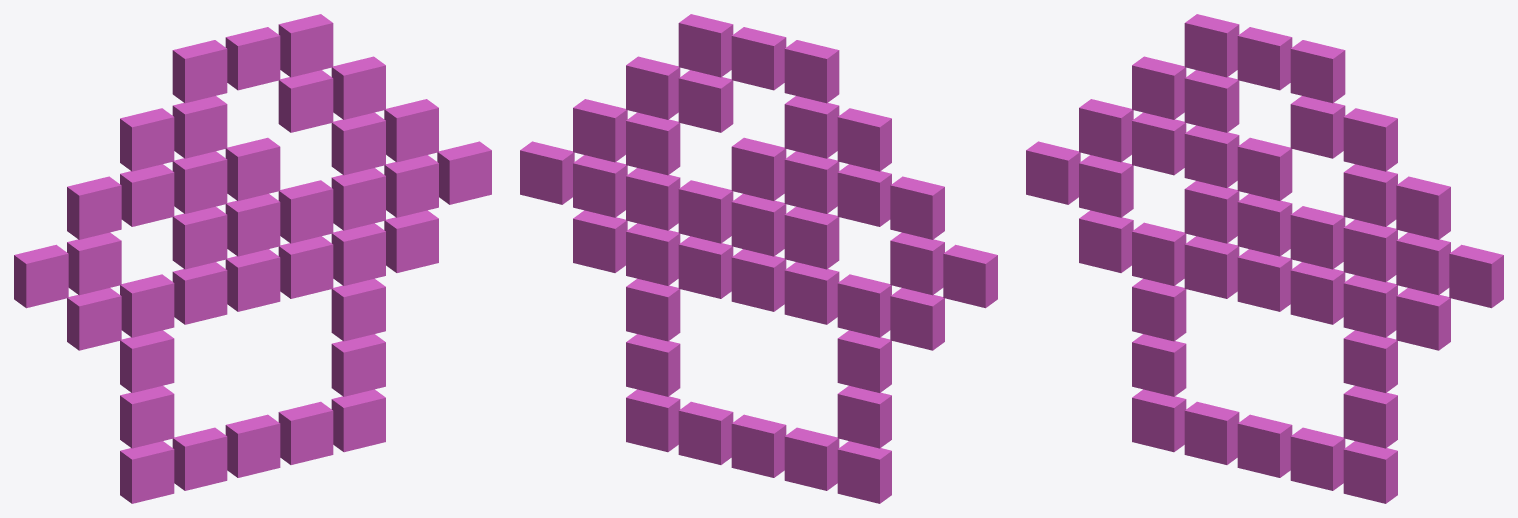
The model's file is PoisonA.fbx.
3 renders of one model, left to right at view 1: azimuth 30°, elevation 25°; view 2: azimuth 150°, elevation 25°; view 3: azimuth 330°, elevation 25°, orthographic.
Visible parts, largest first — view 1: Cube.037, Cube.060, Cube.030, Cube.035, Cube.034, Cube.036, Cube.038, Cube.039, Cube.021, Cube.022, Cube.024, Cube.032 (+25 smaller); view 2: Cube.037, Cube.060, Cube.030, Cube.035, Cube.034, Cube.036, Cube.038, Cube.039, Cube.021, Cube.022, Cube.024, Cube.032 (+25 smaller); view 3: Cube.039, Cube.059, Cube.058, Cube.041, Cube.042, Cube.040, Cube.037, Cube.038, Cube.021, Cube.022, Cube.024, Cube.026 (+25 smaller).
Part boxes in pixels (x1,y1,x2,y2): Cube.037: [172, 40, 227, 103]; Cube.060: [278, 70, 333, 132]; Cube.030: [172, 206, 227, 269]; Cube.035: [67, 176, 121, 239]; Cube.034: [14, 244, 68, 308]; Cube.036: [120, 108, 174, 171]; Cube.038: [225, 27, 280, 90]; Cube.039: [278, 14, 333, 77]; Cube.021: [225, 414, 280, 477]; Cube.022: [172, 427, 227, 490]; Cube.024: [278, 401, 333, 464]; Cube.032: [120, 385, 174, 448]; Cube.037: [784, 40, 839, 103]; Cube.060: [678, 70, 733, 132]; Cube.030: [784, 206, 839, 269]; Cube.035: [890, 176, 944, 239]; Cube.034: [943, 244, 997, 308]; Cube.036: [837, 108, 891, 171]; Cube.038: [731, 27, 786, 90]; Cube.039: [678, 14, 733, 77]; Cube.021: [731, 414, 786, 477]; Cube.022: [784, 427, 839, 490]; Cube.024: [678, 401, 733, 464]; Cube.032: [837, 385, 891, 448]; Cube.039: [1290, 40, 1345, 103]; Cube.059: [1237, 137, 1292, 200]; Cube.058: [1184, 70, 1239, 132]; Cube.041: [1396, 176, 1450, 239]; Cube.042: [1449, 244, 1503, 308]; Cube.040: [1343, 108, 1397, 171]; Cube.037: [1184, 14, 1239, 77]; Cube.038: [1237, 27, 1292, 90]; Cube.021: [1237, 414, 1292, 477]; Cube.022: [1184, 401, 1239, 464]; Cube.024: [1290, 427, 1345, 490]; Cube.026: [1343, 385, 1397, 448].
Size of the model in its own units: 197 by 174 by 8.94.
